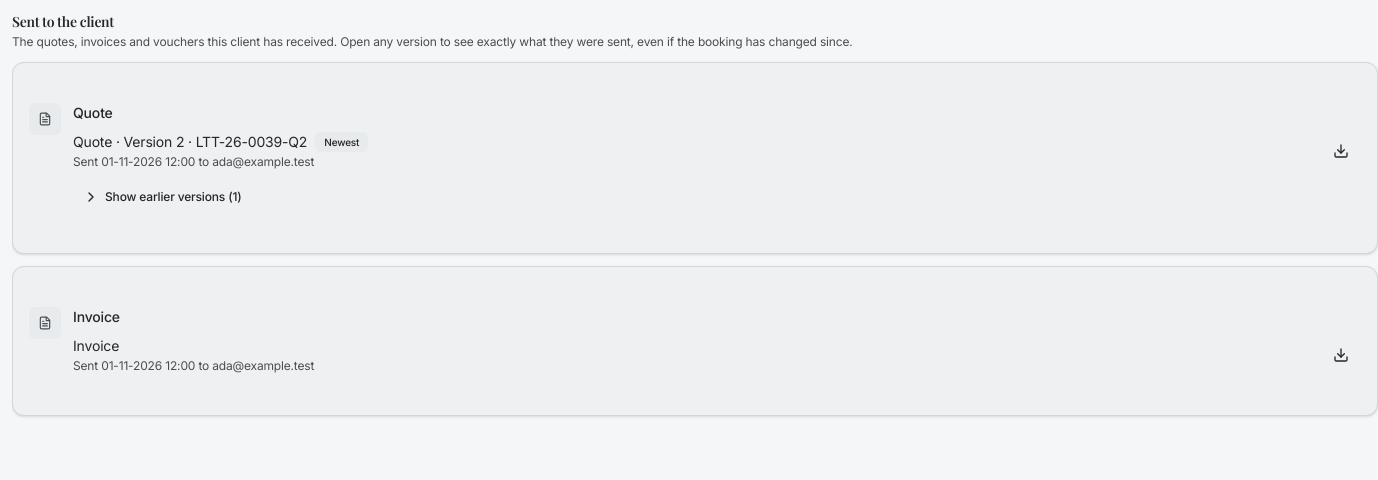
IssuedDocumentsSection › shows the newest version per document and tucks earlier versions behind a toggle
The image size is (1378, 480).
Expected: the heading "Sent to the client" is shown, [12,12,114,31]
Expected: the text "Newest" is shown once, [315,132,368,152]
Step 1. Click the button "Show earlier versions (1)" → (162, 197), box [73,183,252,211]
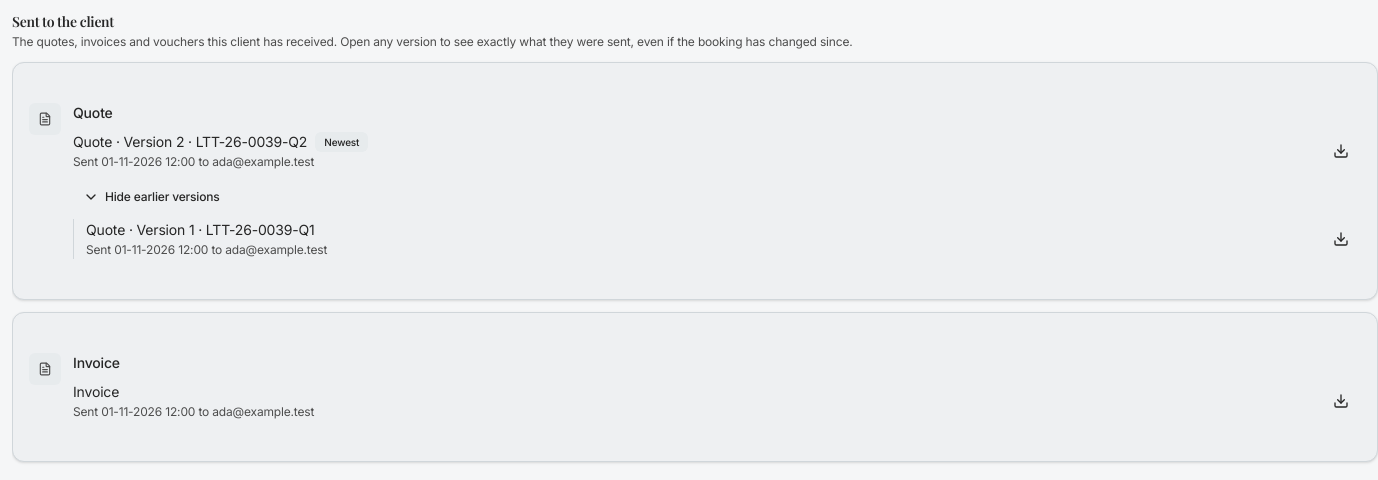
Now the button named "Download Quote version 1 from " is shown, box [1321,219,1361,259]
Now the button "Hide earlier versions" is shown, box [73,183,230,211]
